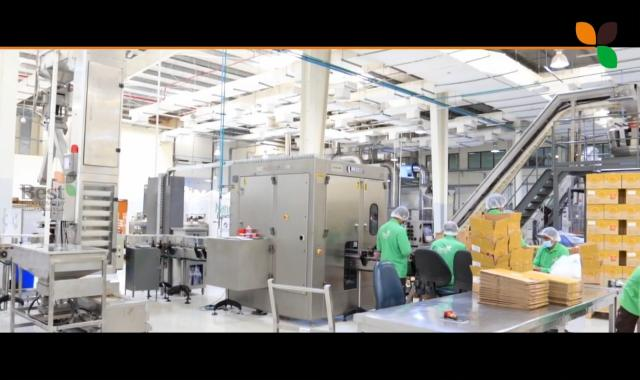hairnet: (485, 191, 507, 211), (542, 224, 561, 244), (392, 206, 408, 221), (442, 222, 458, 236)
